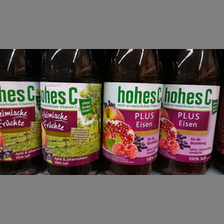juice: (40, 49, 103, 174), (159, 50, 220, 172), (103, 49, 159, 173), (1, 50, 42, 172)
